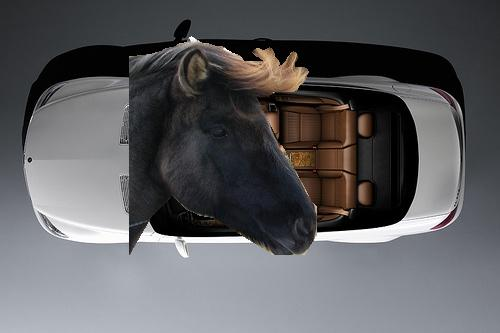tampered: (130, 37, 317, 255)
